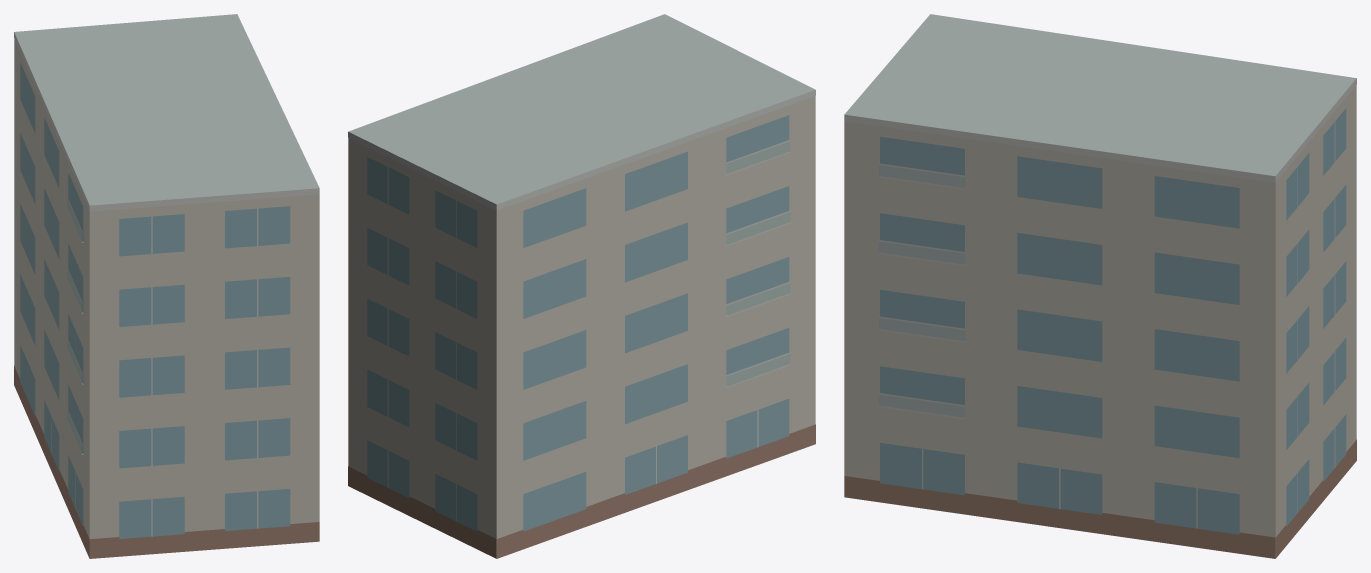
The model's file is survey-upis-32973175.glb.
The picture shows the model from 3 angles, left to right: view 1: azimuth 30°, elevation 25°; view 2: azimuth 150°, elevation 25°; view 3: azimuth 270°, elevation 25°; orthographic projection. The views are drawn at different scales.
Visible parts, largest first — view 1: survey-upis-32973175.tmp; view 2: survey-upis-32973175.tmp; view 3: survey-upis-32973175.tmp.
Boxes of the visible parts, bbox=[...] form: survey-upis-32973175.tmp: bbox=[14, 14, 319, 558]; survey-upis-32973175.tmp: bbox=[348, 14, 815, 558]; survey-upis-32973175.tmp: bbox=[844, 14, 1356, 558].
Size of the model in its own units: 13.06 by 14.35 by 17.43.
